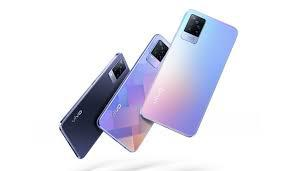Smartphone: (154, 10, 237, 129), (107, 30, 167, 151), (65, 56, 128, 160)
